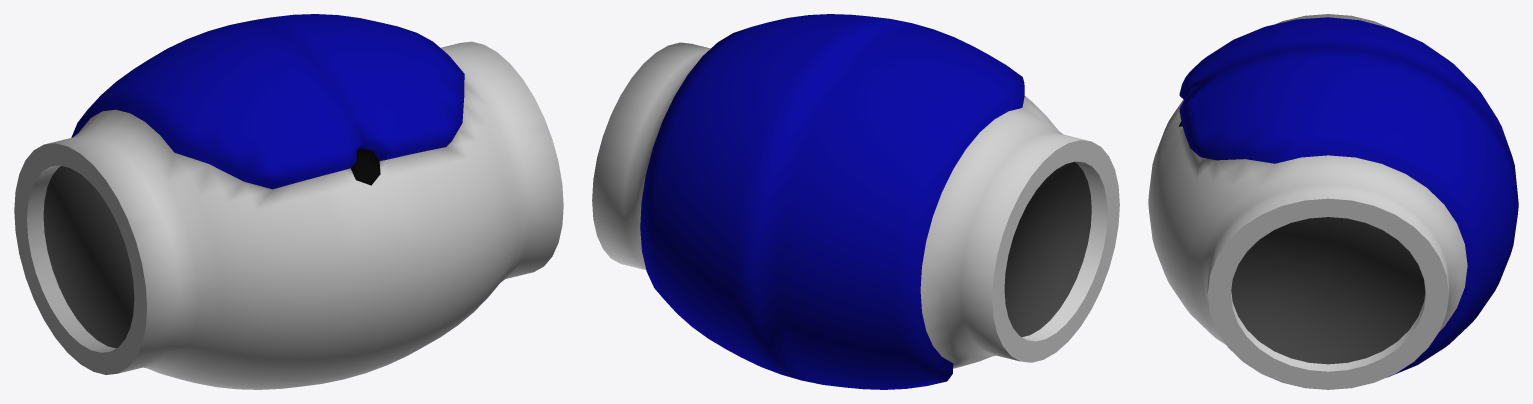
Rendered from naohead.obj.
3 views of the same model, side by side, from view 1: azimuth 30°, elevation 25°; view 2: azimuth 150°, elevation 25°; view 3: azimuth 270°, elevation 25° (orthographic). The views are drawn at different scales.
Parts seen in each view (by area): view 1: Sphere; view 2: Sphere; view 3: Sphere.
Part boxes in pixels (x1,y1,x2,y2): Sphere: [14, 14, 563, 389]; Sphere: [592, 14, 1119, 389]; Sphere: [1148, 14, 1518, 389].
Size of the model in its own units: 1.32 by 1 by 1.12.
